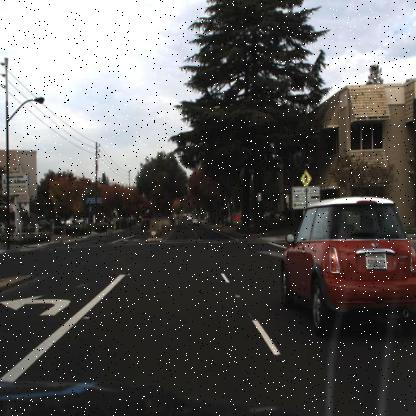car: (283, 195, 416, 336), (141, 213, 151, 228), (191, 216, 200, 225)
